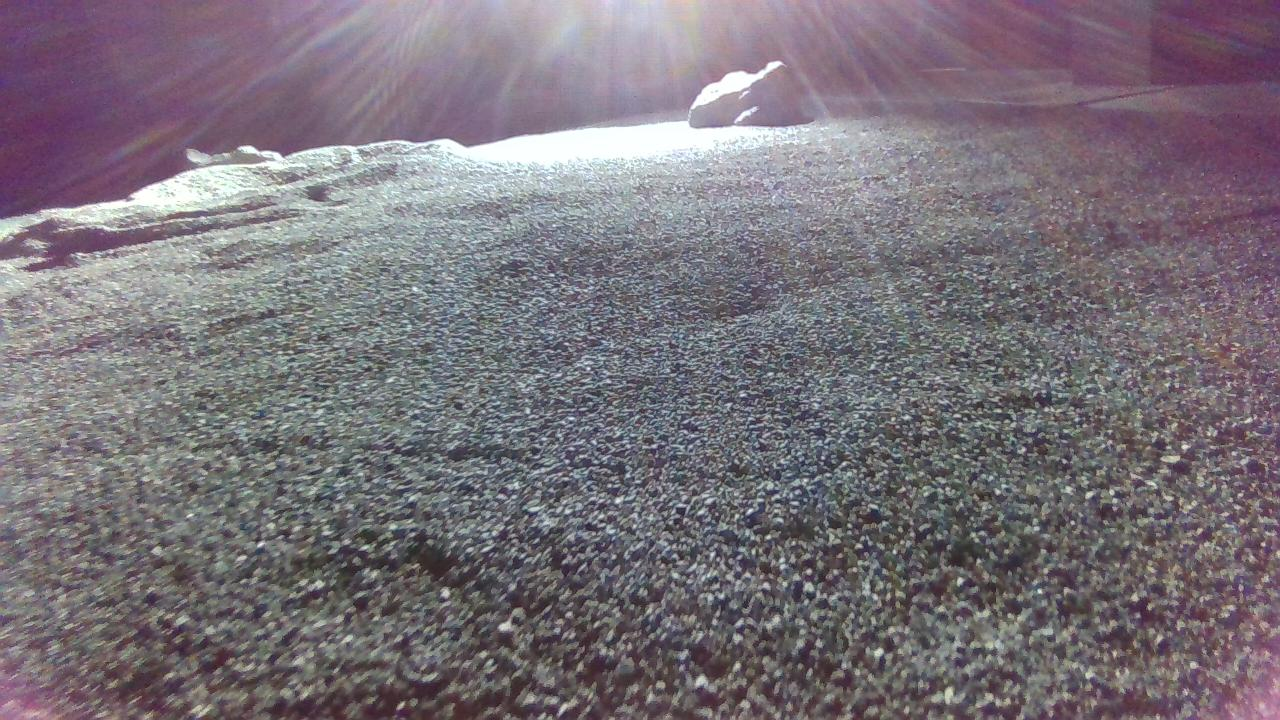rock: (689, 59, 826, 126), (184, 144, 282, 166)
